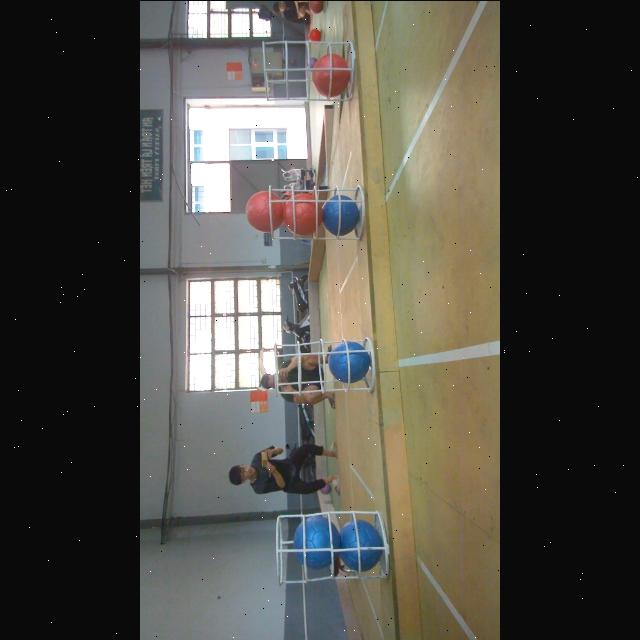B: (292, 514, 340, 568), (339, 520, 383, 570), (329, 342, 371, 382), (322, 193, 360, 234)
R: (284, 193, 324, 235), (246, 190, 284, 232), (313, 53, 349, 97)
